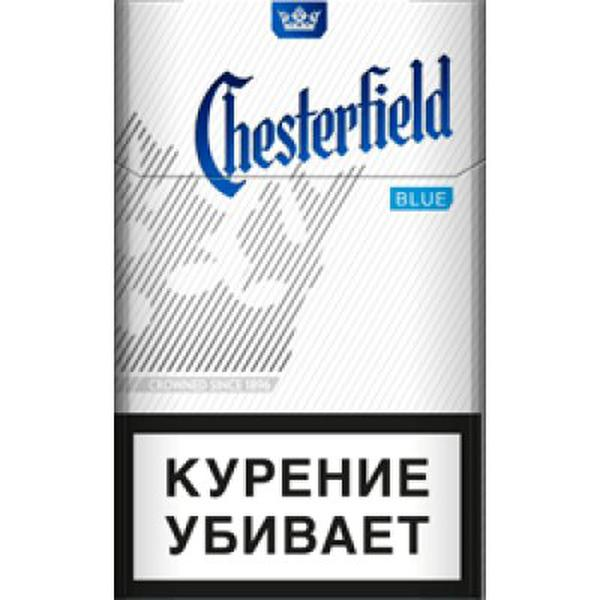chesterfield_blue: (113, 2, 482, 600)
